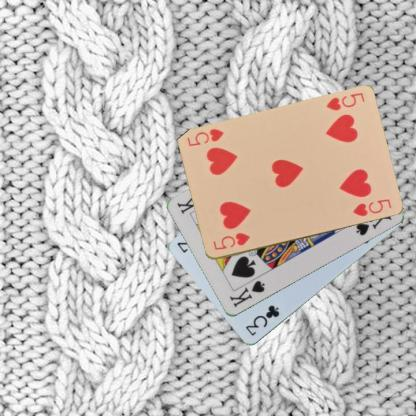3c: (243, 302, 280, 338)
5h: (324, 90, 366, 112), (210, 230, 251, 252)
Ks: (226, 278, 266, 309)
